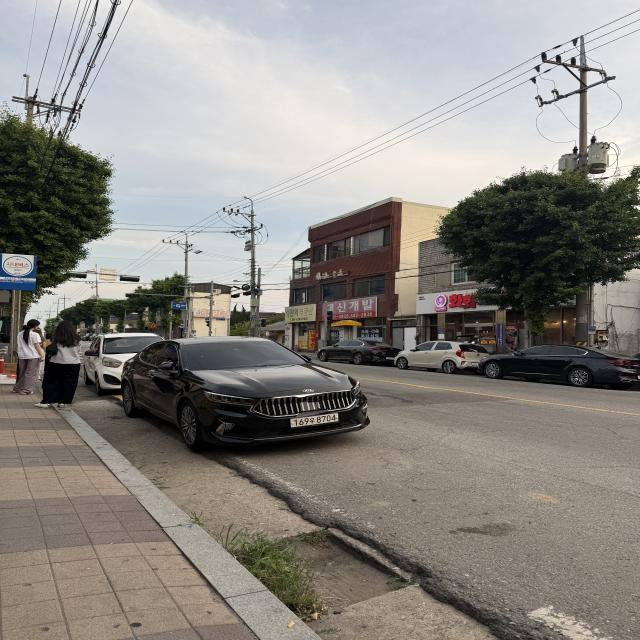car: (118, 333, 361, 448), (476, 345, 635, 389), (82, 331, 165, 396), (394, 342, 494, 377), (312, 340, 394, 368)
